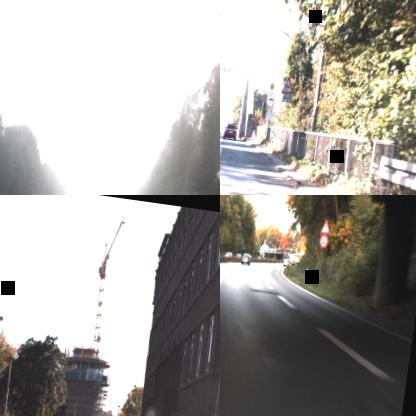no traffic both ways: (142, 403, 158, 416)
slippery road: (280, 74, 295, 94)
speed limit 50: (318, 233, 328, 249)
traffic signal: (318, 218, 332, 235)
